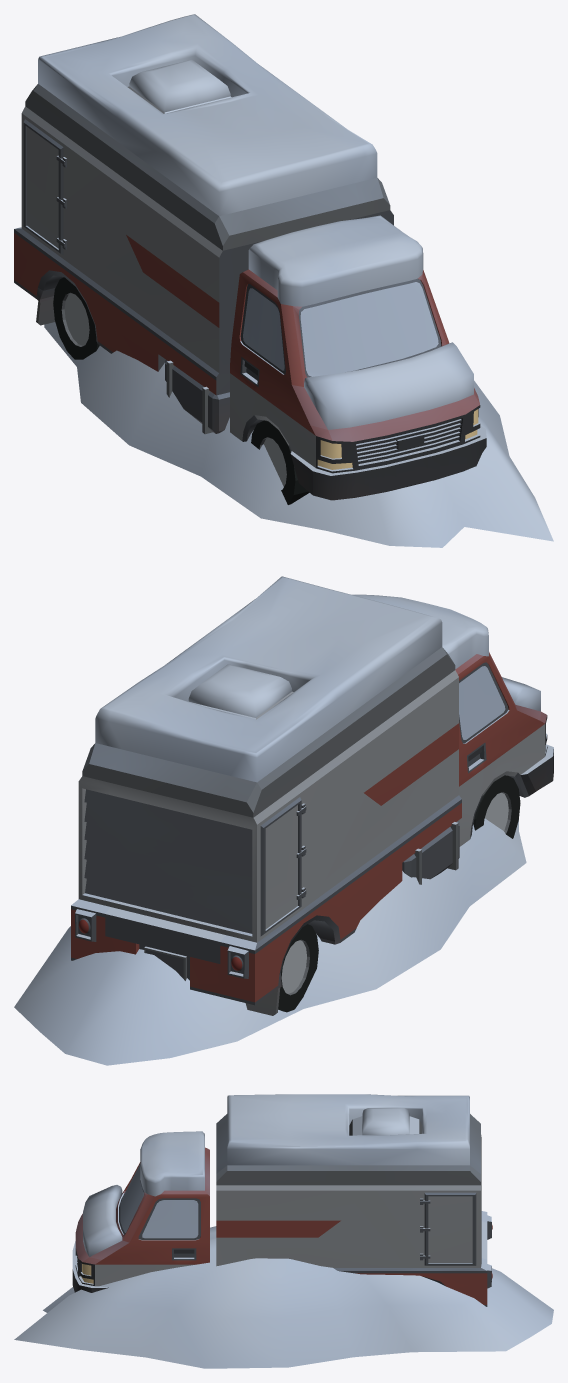
Rendered from box_truck_snowed.glb.
The picture shows the model from 3 angles, top to bottom: view 1: azimuth 30°, elevation 25°; view 2: azimuth 150°, elevation 25°; view 3: azimuth 270°, elevation 25°; orthographic projection. The views are drawn at different scales.
Parts seen in each view (by area): view 1: Body; view 2: Body; view 3: Body.
Boxes of the visible parts, x1=… form: Body: x1=14, y1=14, x2=553, y2=547; Body: x1=14, y1=576, x2=553, y2=1065; Body: x1=14, y1=1094, x2=553, y2=1368.
Bounding box in the file's own units: 4.09 × 3.67 × 9.26.
